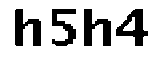4: (116, 4, 153, 49)
5: (49, 5, 80, 49)
h: (7, 3, 47, 50), (80, 6, 115, 51)
